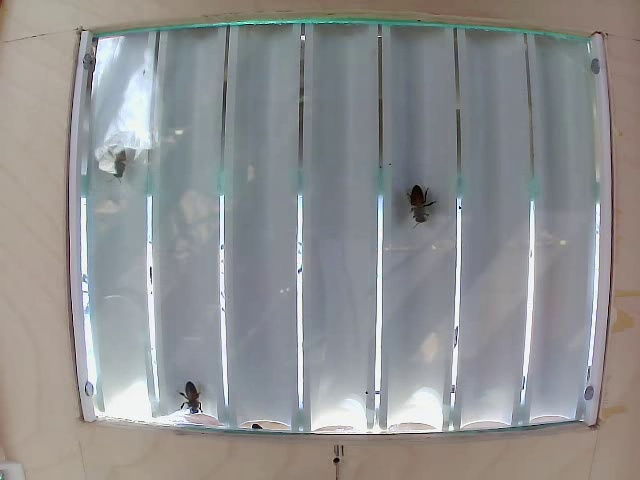bee: (400, 176, 431, 238), (179, 388, 206, 419)
